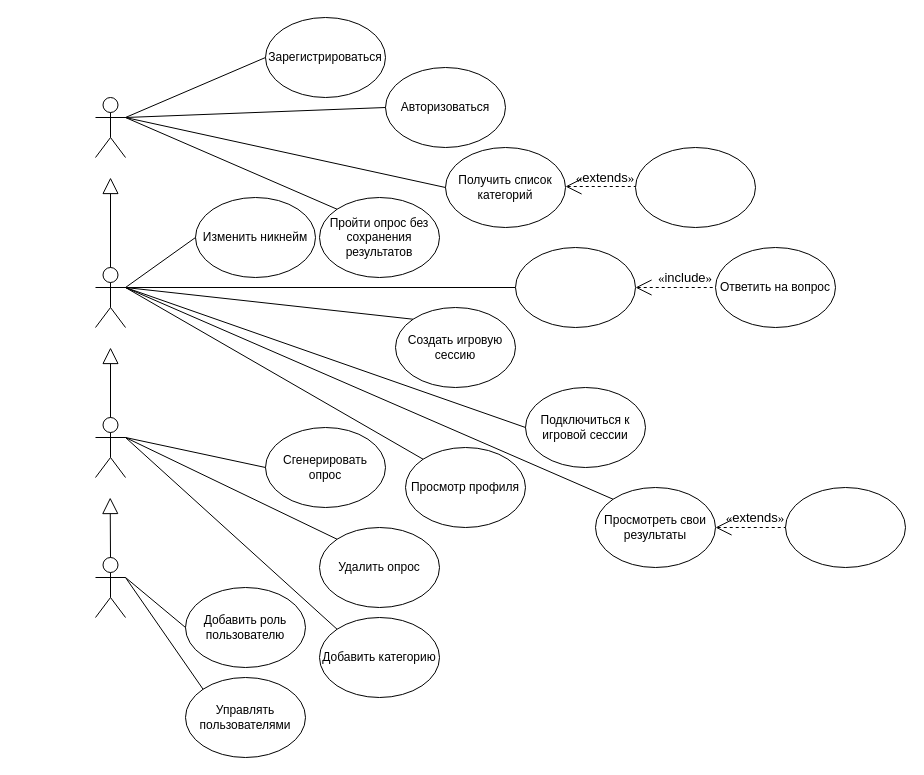
This 924x775 diagram has some shape labels left out. Each missing label, with the centre of its shape:
"Авторизованный пользователь" goes at pixel 110 297.
"Администратор" goes at pixel 110 587.
"Вывести статистику" goes at pixel 845 527.
"Модератор опросов" goes at pixel 110 447.
"Неавторизованный пользователь" goes at pixel 110 127.
"Получить список опросов по категории" goes at pixel 695 187.
"Пройти опрос, сохранив результат" goes at pixel 575 287.
